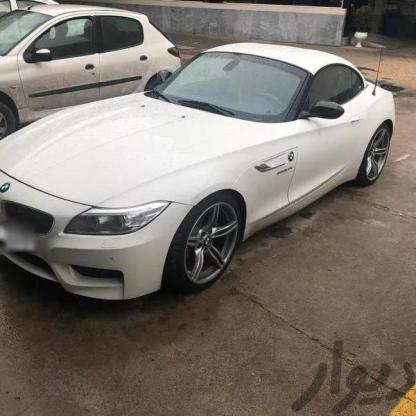Car: (0, 42, 398, 303), (0, 0, 192, 130)
